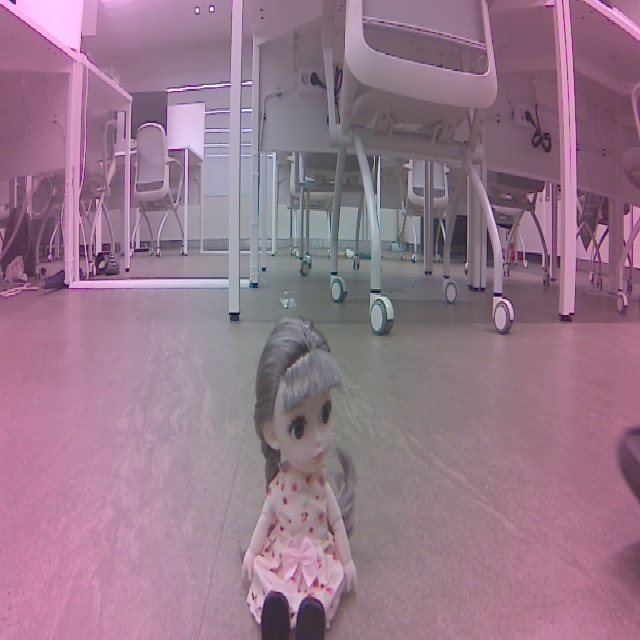장애물: (232, 314, 374, 640)
